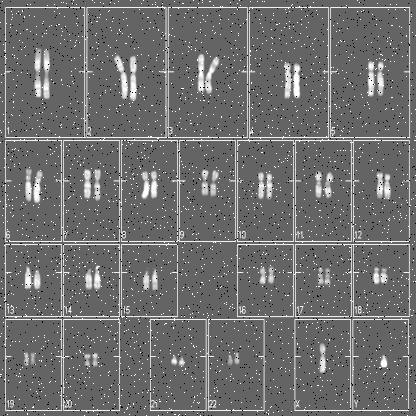1: (32, 45, 43, 104), (42, 45, 52, 104)
10: (264, 170, 275, 202), (256, 170, 266, 202)
11: (323, 167, 334, 200), (314, 168, 324, 201)
12: (382, 169, 394, 204), (374, 168, 384, 203)
13: (22, 264, 32, 289), (32, 265, 42, 290)
14: (92, 264, 102, 294), (84, 264, 92, 294)
15: (150, 267, 161, 293), (141, 267, 151, 293)
16: (266, 263, 275, 286), (258, 264, 266, 286)
17: (324, 264, 334, 288), (316, 264, 324, 288)
18: (370, 265, 380, 285), (380, 265, 390, 285)
19: (21, 348, 30, 368), (30, 348, 39, 368)
2: (110, 52, 129, 103), (128, 52, 146, 104)
20: (81, 347, 92, 370), (92, 348, 102, 371)
21: (168, 349, 180, 370), (178, 349, 188, 370)
22: (233, 348, 244, 370), (224, 348, 235, 368)
3: (206, 52, 220, 98), (196, 50, 206, 100)
4: (290, 60, 302, 102), (282, 60, 291, 102)
5: (364, 55, 375, 100), (374, 55, 385, 100)
6: (21, 163, 34, 207), (32, 164, 45, 208)
7: (92, 166, 105, 203), (80, 166, 92, 202)
8: (140, 166, 150, 202), (149, 166, 159, 202)
9: (209, 166, 220, 199), (198, 166, 209, 198)
X: (316, 338, 328, 376)
Y: (378, 348, 390, 374)
